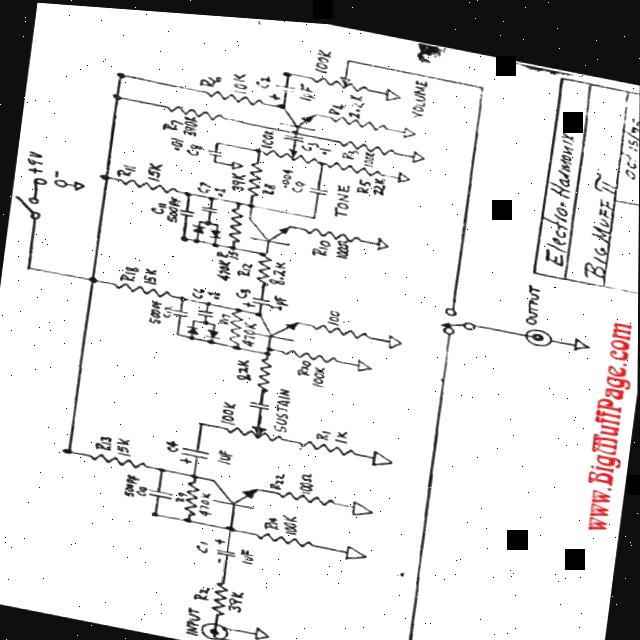capacitor: (172, 432, 213, 463), (207, 535, 246, 559), (138, 479, 177, 502), (241, 385, 275, 411), (299, 172, 334, 197), (162, 296, 194, 320), (191, 299, 221, 320), (272, 73, 305, 91), (247, 285, 274, 306), (173, 199, 199, 218), (196, 197, 222, 213), (282, 126, 308, 141), (207, 141, 230, 155)
diode: (180, 317, 205, 334), (187, 217, 209, 234), (206, 321, 226, 338), (206, 220, 224, 237)
ground: (347, 431, 410, 470), (361, 314, 408, 348), (339, 343, 384, 375), (339, 486, 382, 518), (395, 135, 439, 165), (326, 536, 372, 562), (361, 219, 399, 250), (552, 319, 592, 348), (388, 111, 430, 136), (388, 158, 420, 184), (246, 617, 278, 640), (64, 174, 95, 194), (378, 77, 402, 100), (225, 151, 248, 169)
node: (218, 517, 243, 533), (103, 87, 127, 103), (199, 329, 222, 345), (83, 269, 105, 285), (106, 65, 131, 79), (91, 168, 112, 181), (57, 442, 76, 456), (180, 509, 197, 524), (229, 334, 246, 349), (143, 504, 164, 516), (279, 62, 296, 75), (177, 184, 194, 196), (259, 339, 278, 349), (175, 229, 192, 240), (182, 328, 199, 339), (201, 294, 218, 305), (271, 96, 288, 107), (248, 305, 267, 314), (208, 235, 223, 245), (201, 191, 217, 199), (190, 231, 201, 242), (229, 301, 243, 309), (242, 196, 255, 204), (229, 193, 241, 201), (254, 244, 266, 252), (259, 344, 272, 351), (224, 240, 238, 246)
resistor: (259, 138, 389, 175), (118, 166, 202, 201), (193, 73, 269, 109), (303, 59, 379, 94), (302, 209, 371, 247), (105, 268, 186, 299), (160, 93, 237, 124), (78, 441, 150, 473), (216, 410, 289, 441), (291, 425, 359, 457), (246, 520, 322, 547), (322, 102, 393, 130), (275, 333, 339, 363), (201, 571, 241, 618), (265, 478, 334, 504), (334, 129, 399, 156), (303, 311, 370, 337), (235, 151, 271, 198), (170, 472, 210, 513), (263, 136, 323, 163), (328, 151, 387, 177), (244, 247, 285, 283), (246, 348, 280, 389), (220, 304, 254, 341), (223, 199, 252, 240)
source: (23, 161, 72, 189)
switch: (428, 289, 484, 336), (11, 185, 54, 224)
transistor: (205, 459, 267, 513), (250, 299, 311, 345), (241, 203, 300, 246), (274, 93, 329, 131)
